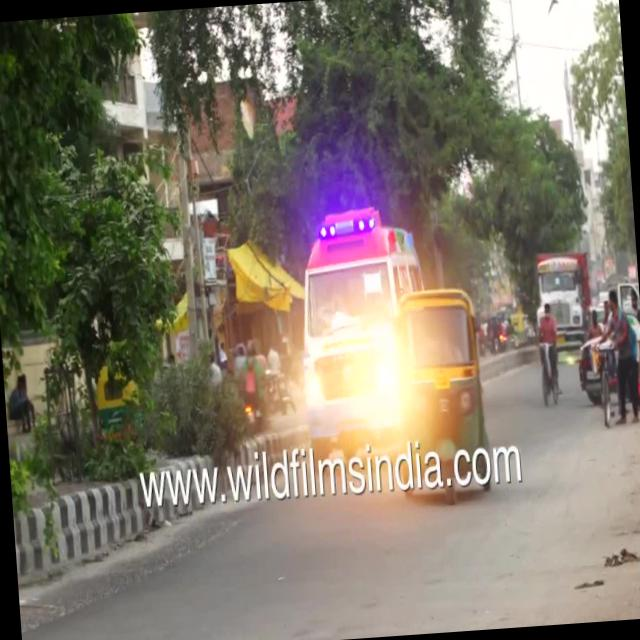ambulance: (292, 206, 425, 476)
